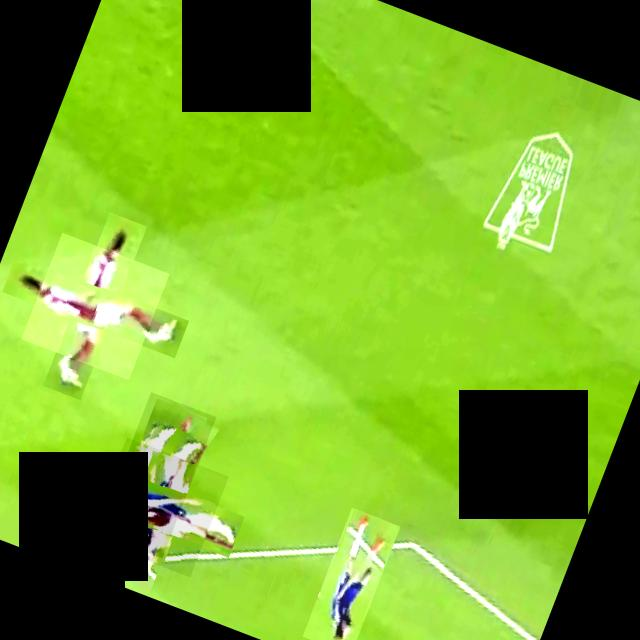soccer-player: (21, 232, 169, 380), (96, 390, 216, 558), (88, 436, 228, 576), (302, 507, 400, 640)
